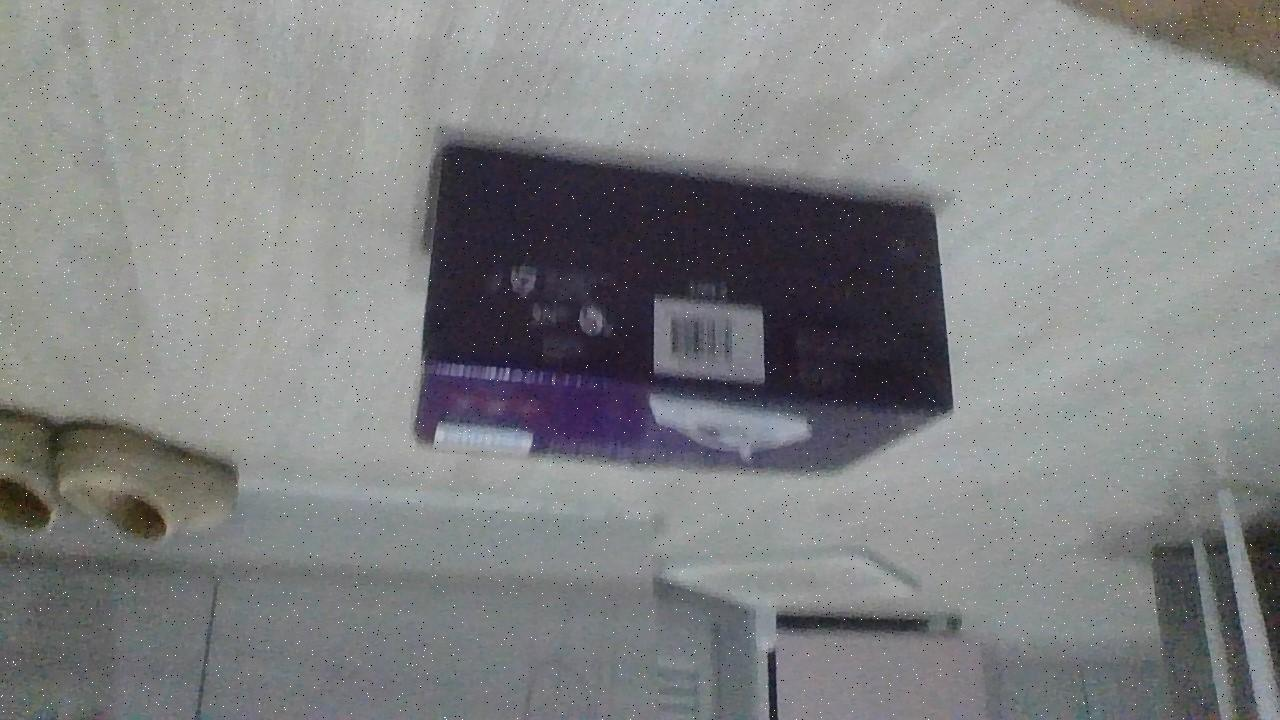IRON: (407, 141, 958, 481)
